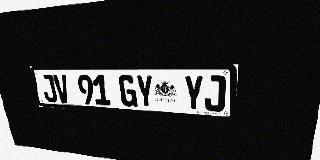1: (92, 75, 111, 106)
9: (77, 74, 96, 105)
G: (118, 75, 137, 107)
J: (204, 75, 226, 112), (40, 74, 58, 102)
V: (53, 74, 71, 103)
Y: (183, 75, 204, 111), (135, 75, 155, 108)
